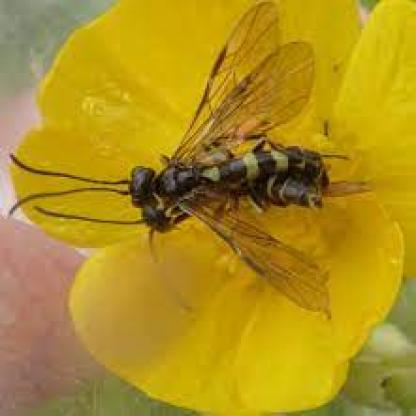sawfly: (19, 0, 346, 211), (34, 158, 398, 320)
